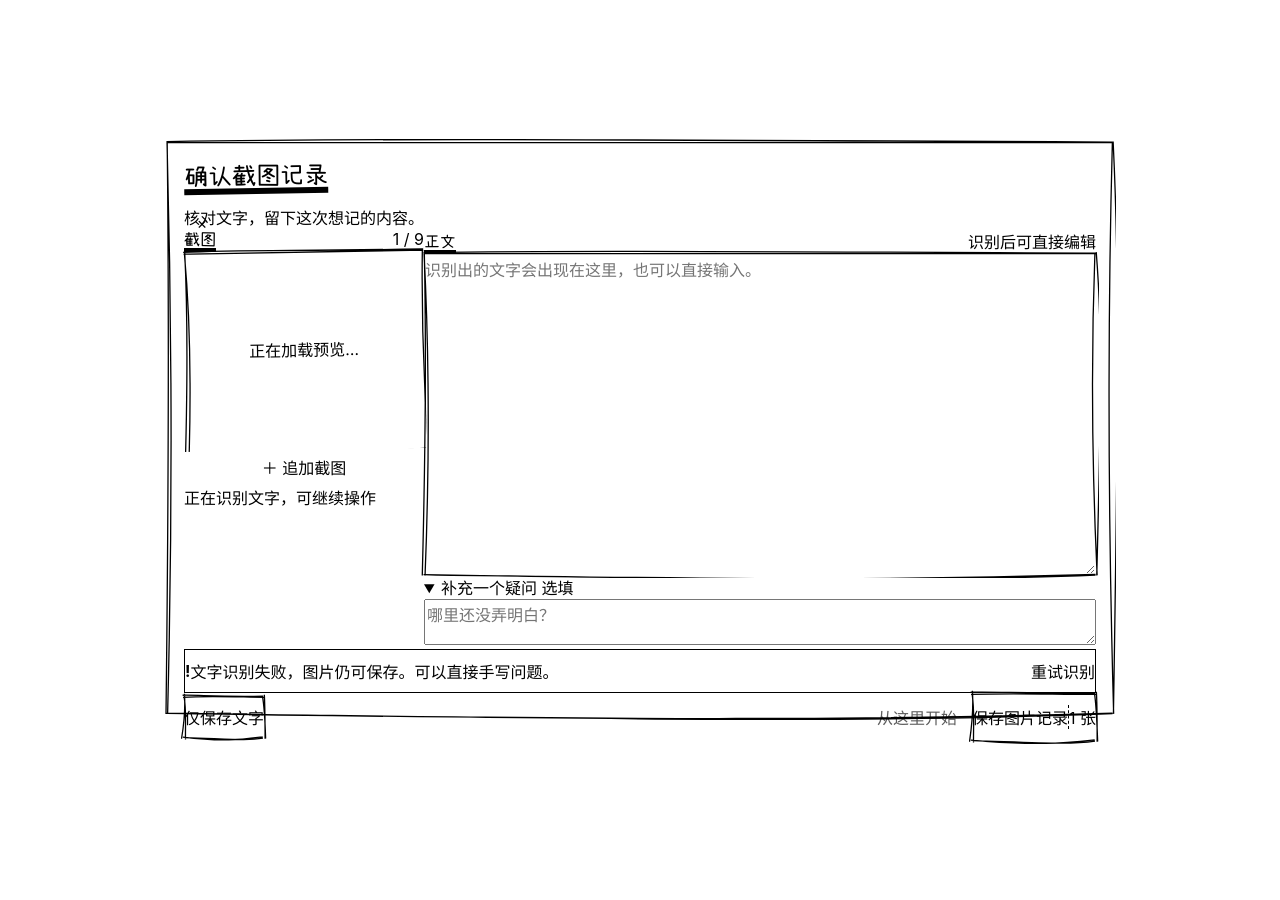
Test case: CaptureConfirmOverlay › 首次识别失败后重试成功会同步识别原文
The image size is (1280, 900).
Click the button "重试识别" at coordinates (1063, 671), box x1=1031 y1=650 x2=1095 y2=692
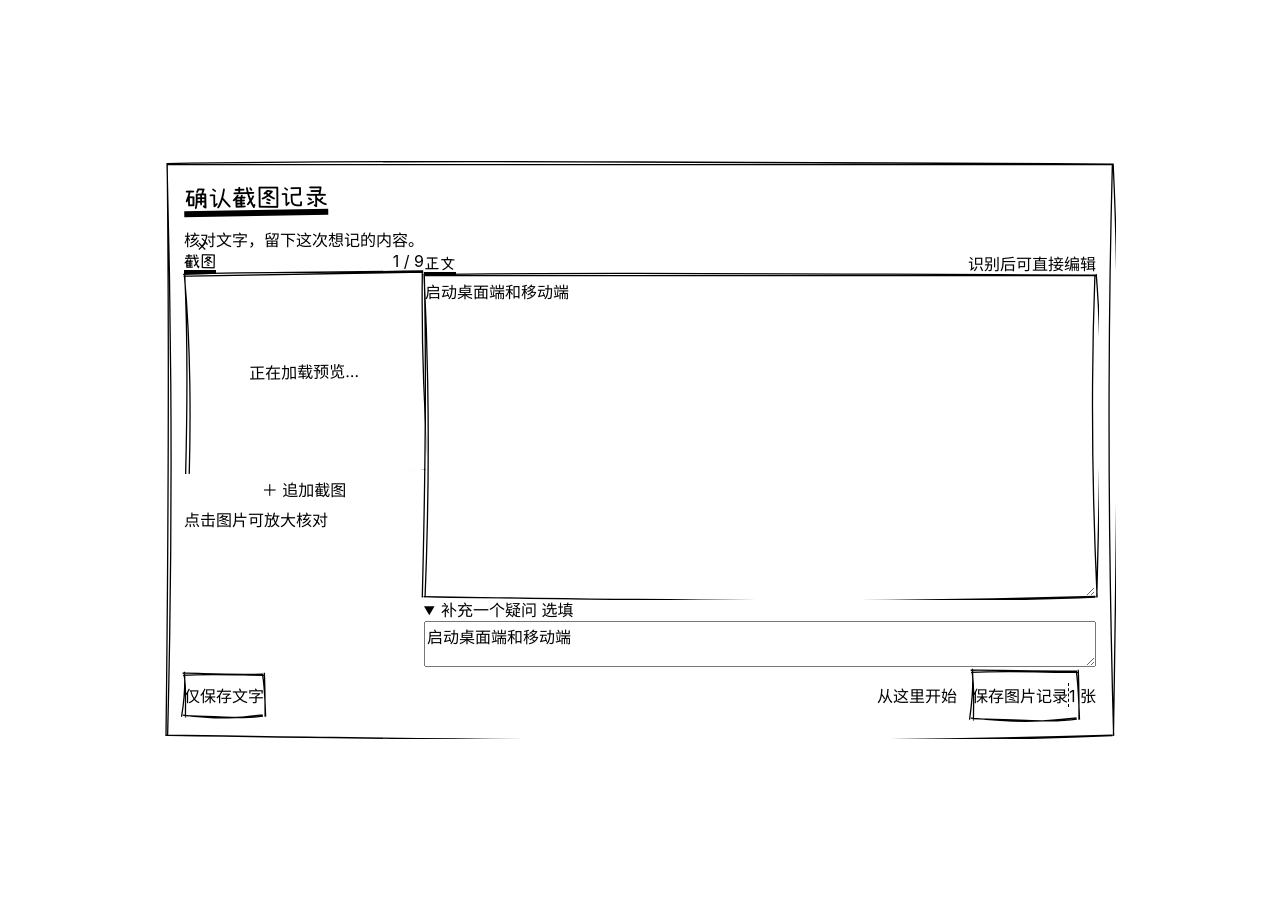
expect the text box named "识别原文" holds "启动桌面端和移动端": met, box x1=424 y1=275 x2=1096 y2=597
expect the button "仅保存文字" is enabled: met, box x1=184 y1=674 x2=264 y2=716
